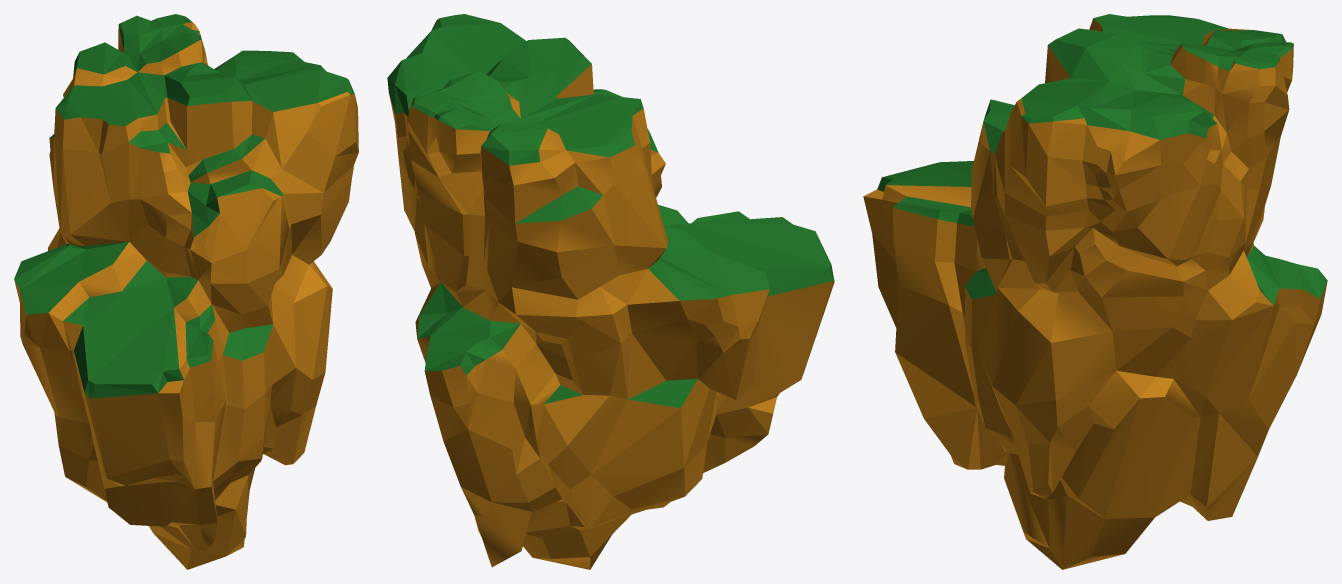
Rendered from building_05.FBX.
3 renders of one model, left to right at view 1: azimuth 30°, elevation 25°; view 2: azimuth 150°, elevation 25°; view 3: azimuth 270°, elevation 25°, orthographic. The views are drawn at different scales.
Visible parts, largest first — view 1: building_05_02, building_05_01; view 2: building_05_02, building_05_01; view 3: building_05_02, building_05_01.
Part boxes in pixels (box(x1,y1,x2,y2)): building_05_02: box(14, 22, 358, 569); building_05_01: box(14, 14, 354, 398); building_05_02: box(389, 64, 834, 569); building_05_01: box(387, 14, 834, 408); building_05_02: box(863, 18, 1327, 569); building_05_01: box(877, 14, 1327, 305).
Size of the model in its own units: 831 by 1164 by 902.
